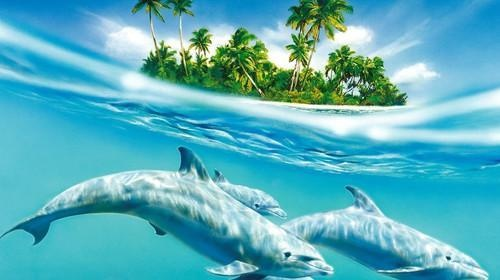fish: (1, 145, 336, 280), (282, 184, 500, 280), (206, 167, 290, 218)
